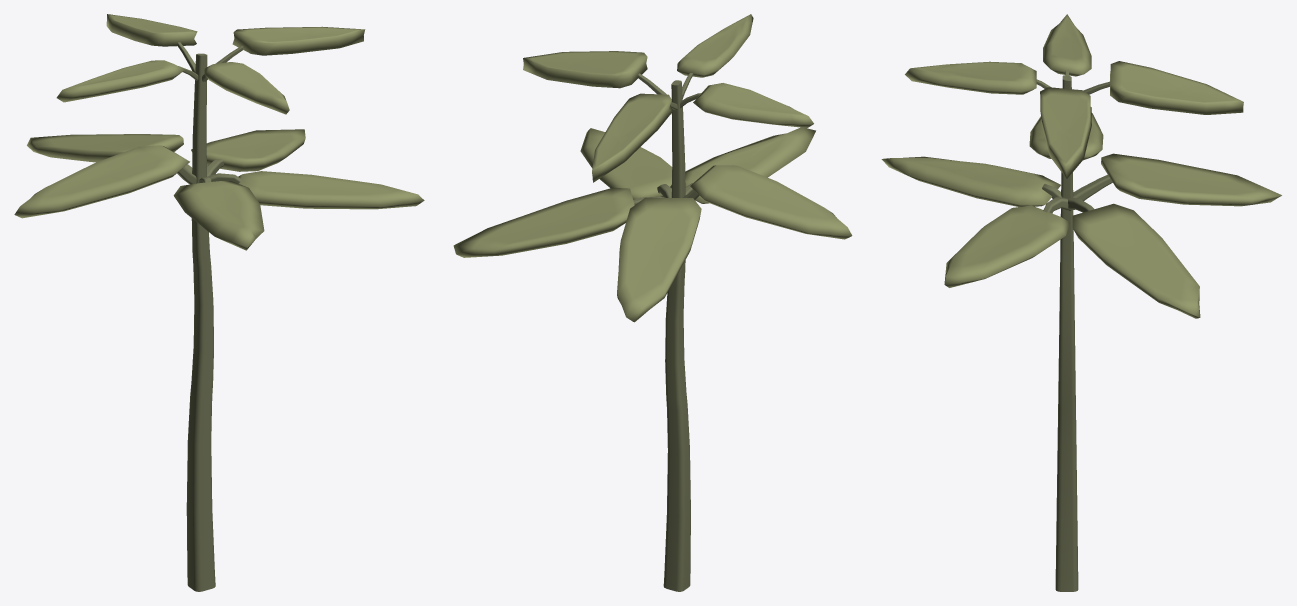
3 renders of one model, left to right at view 1: azimuth 30°, elevation 25°; view 2: azimuth 150°, elevation 25°; view 3: azimuth 270°, elevation 25°, orthographic. The views are drawn at different scales.
Parts seen in each view (by area): view 1: Root; view 2: Root; view 3: Root.
Boxes of the visible parts, bbox=[...] form: Root: bbox=[14, 14, 424, 591]; Root: bbox=[453, 14, 852, 591]; Root: bbox=[881, 14, 1281, 591].
Bounding box in the file's own units: 0.1044 × 0.1524 × 0.1063.
